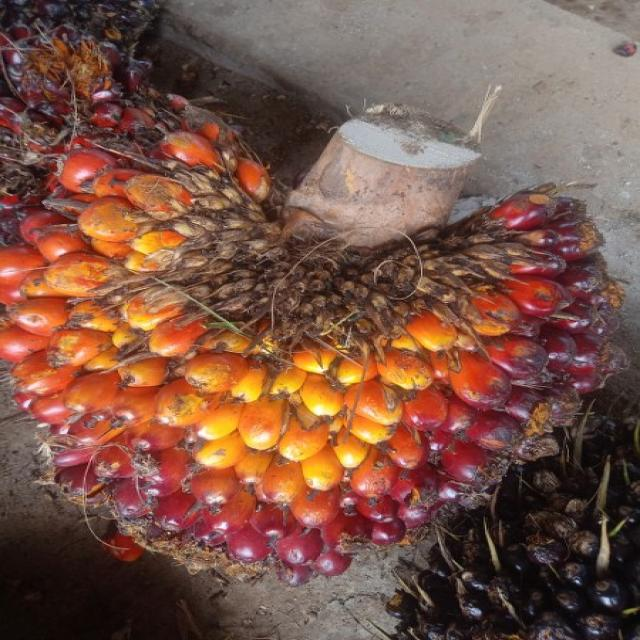fraksi 3: (0, 96, 640, 606)
